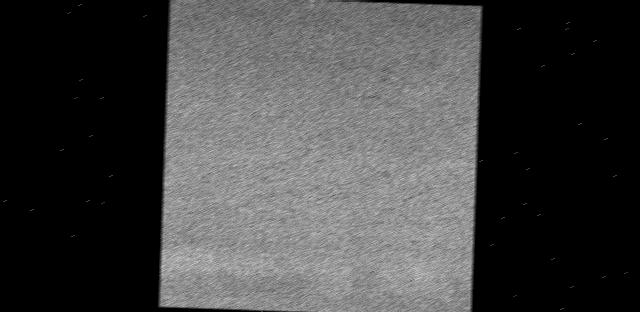silk_spot: (200, 15, 477, 242)
